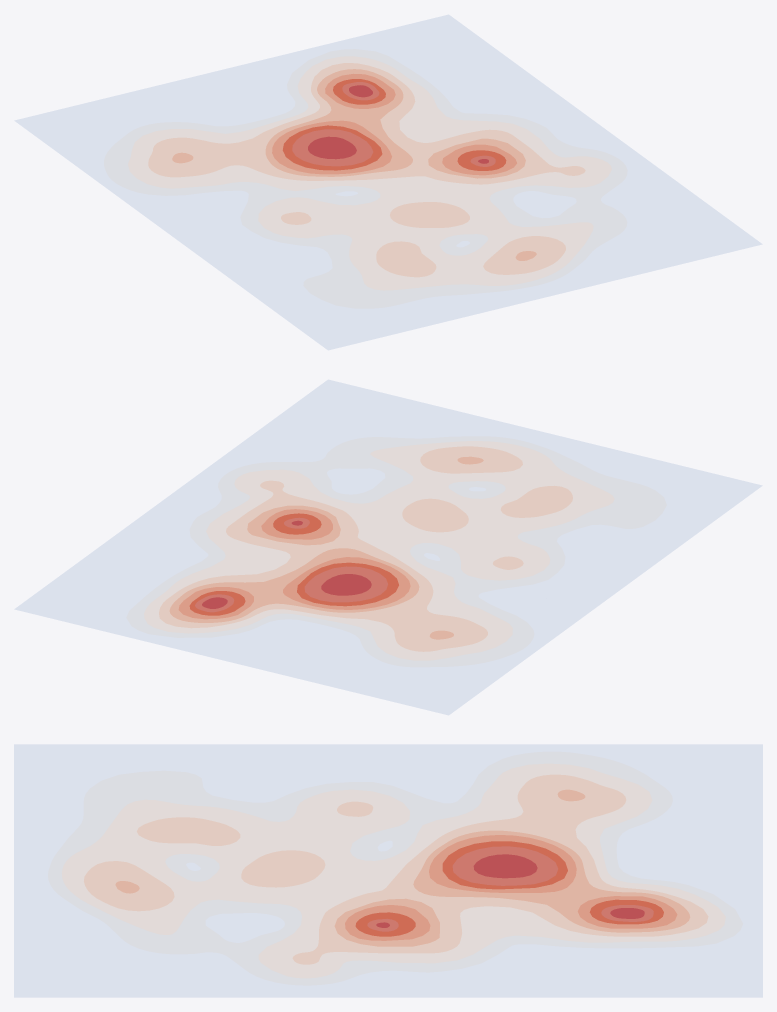
Rendered from 2dheatmap.fbx.
The picture shows the model from 3 angles, top to bottom: view 1: azimuth 30°, elevation 25°; view 2: azimuth 150°, elevation 25°; view 3: azimuth 270°, elevation 25°; orthographic projection. The views are drawn at different scales.
Parts seen in each view (by area): view 1: 物件_1, 物件_2, 物件_17, 物件_3, 物件_10, 物件_18, 物件_12, 物件_5, 物件_11, 物件_19, 物件_7, 物件_28 (+7 smaller); view 2: 物件_1, 物件_2, 物件_17, 物件_3, 物件_10, 物件_18, 物件_12, 物件_5, 物件_11, 物件_19, 物件_7, 物件_28 (+7 smaller); view 3: 物件_1, 物件_2, 物件_17, 物件_3, 物件_10, 物件_18, 物件_12, 物件_5, 物件_11, 物件_19, 物件_7, 物件_28 (+9 smaller).
Part boxes in pixels (x1,y1,x2,y2): 物件_1: [14, 14, 762, 350]; 物件_2: [128, 56, 611, 290]; 物件_17: [104, 49, 627, 308]; 物件_3: [148, 63, 585, 184]; 物件_10: [265, 69, 412, 176]; 物件_18: [483, 236, 565, 274]; 物件_12: [390, 202, 469, 227]; 物件_5: [272, 120, 391, 174]; 物件_11: [376, 241, 436, 277]; 物件_19: [292, 129, 373, 166]; 物件_7: [428, 138, 525, 178]; 物件_28: [282, 125, 382, 170]; 物件_1: [14, 379, 762, 715]; 物件_2: [144, 441, 614, 660]; 物件_17: [126, 436, 666, 667]; 物件_3: [159, 480, 487, 651]; 物件_10: [169, 548, 419, 622]; 物件_18: [420, 446, 522, 473]; 物件_12: [402, 498, 468, 532]; 物件_5: [283, 557, 410, 609]; 物件_11: [501, 486, 572, 517]; 物件_19: [304, 566, 387, 602]; 物件_7: [247, 505, 340, 545]; 物件_28: [297, 562, 398, 606]; 物件_1: [14, 744, 762, 997]; 物件_2: [62, 763, 725, 978]; 物件_17: [48, 751, 742, 985]; 物件_3: [292, 774, 708, 964]; 物件_10: [413, 830, 690, 932]; 物件_18: [84, 861, 174, 911]; 物件_12: [241, 850, 325, 887]; 物件_5: [429, 835, 576, 892]; 物件_11: [137, 817, 240, 845]; 物件_19: [452, 846, 558, 885]; 物件_7: [334, 898, 439, 946]; 物件_28: [442, 841, 567, 889].
Size of the model in its own units: 5707 by 7140 by 0.
